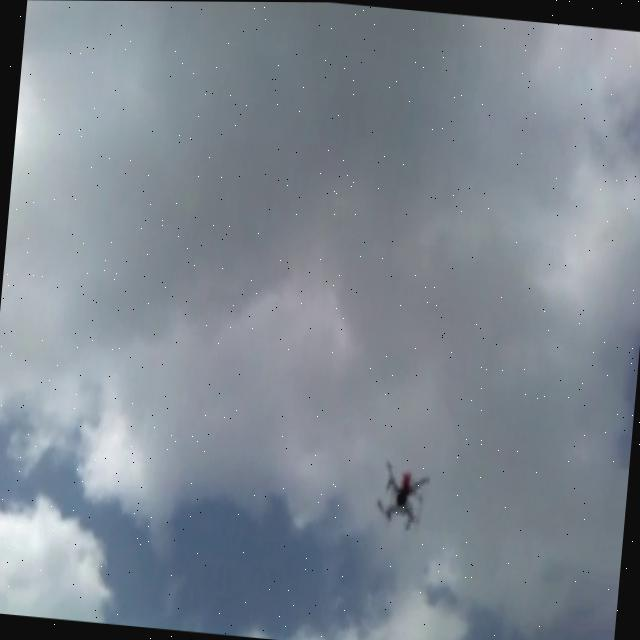drone: (372, 454, 434, 536)
